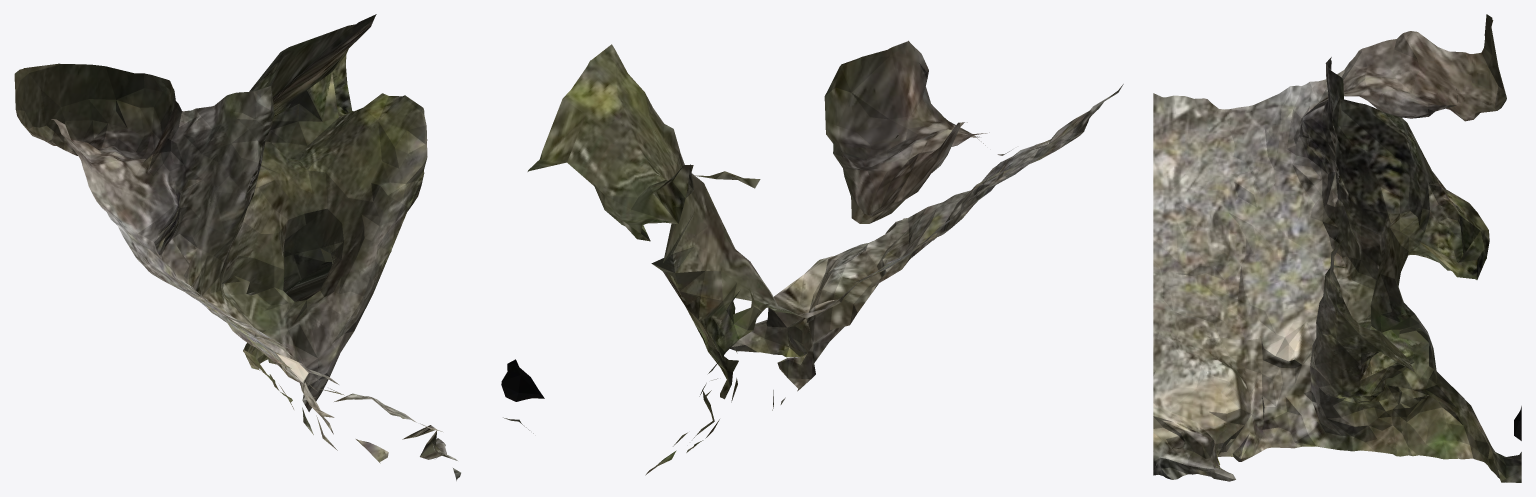
The picture shows the model from 3 angles, left to right: view 1: azimuth 30°, elevation 25°; view 2: azimuth 150°, elevation 25°; view 3: azimuth 270°, elevation 25°; orthographic projection. The views are drawn at different scales.
Bounding box in the file's own units: 2.95 × 2.95 × 2.95.
Materials: 5 (5 with a texture image).
